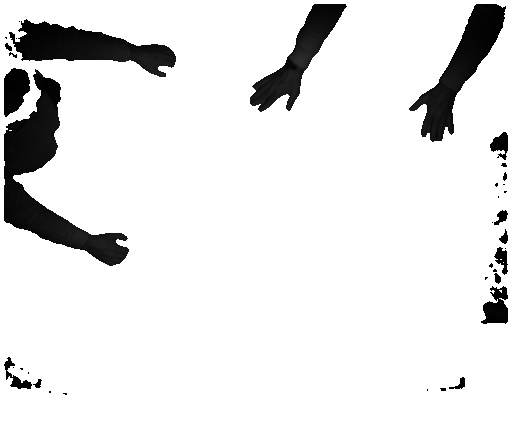hand: (408, 89, 458, 143), (248, 67, 303, 111), (91, 233, 135, 271), (137, 43, 175, 79)
